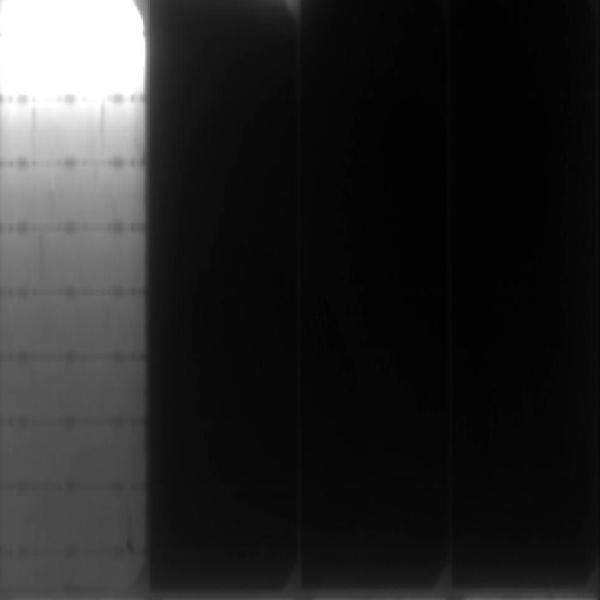hot_spot: (1, 1, 132, 97)
no_electricity: (147, 1, 599, 596)
